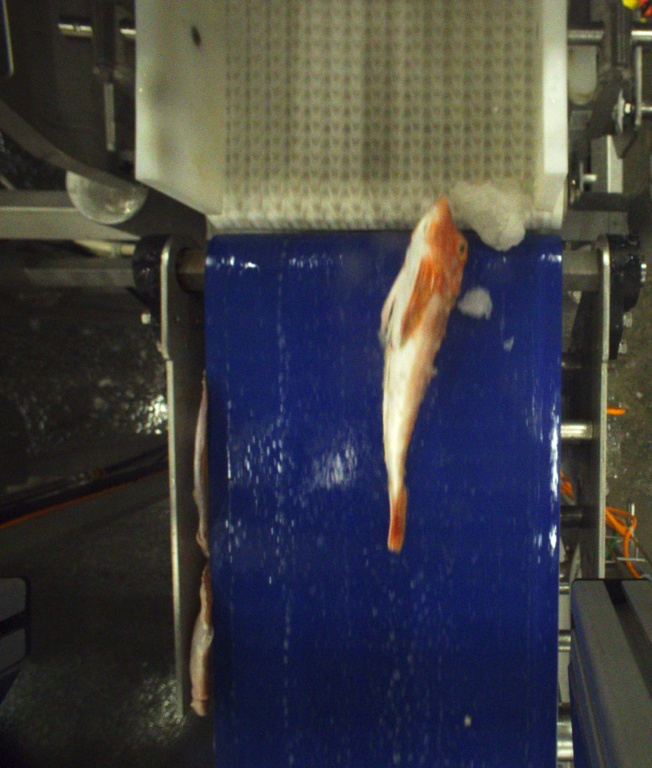GUU: (377, 196, 470, 554)
